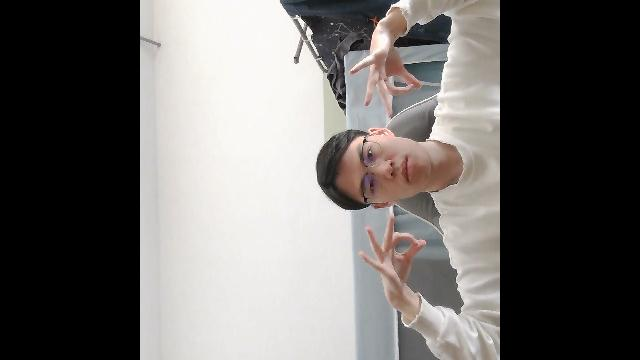ok: (347, 22, 422, 118), (357, 210, 425, 308)
